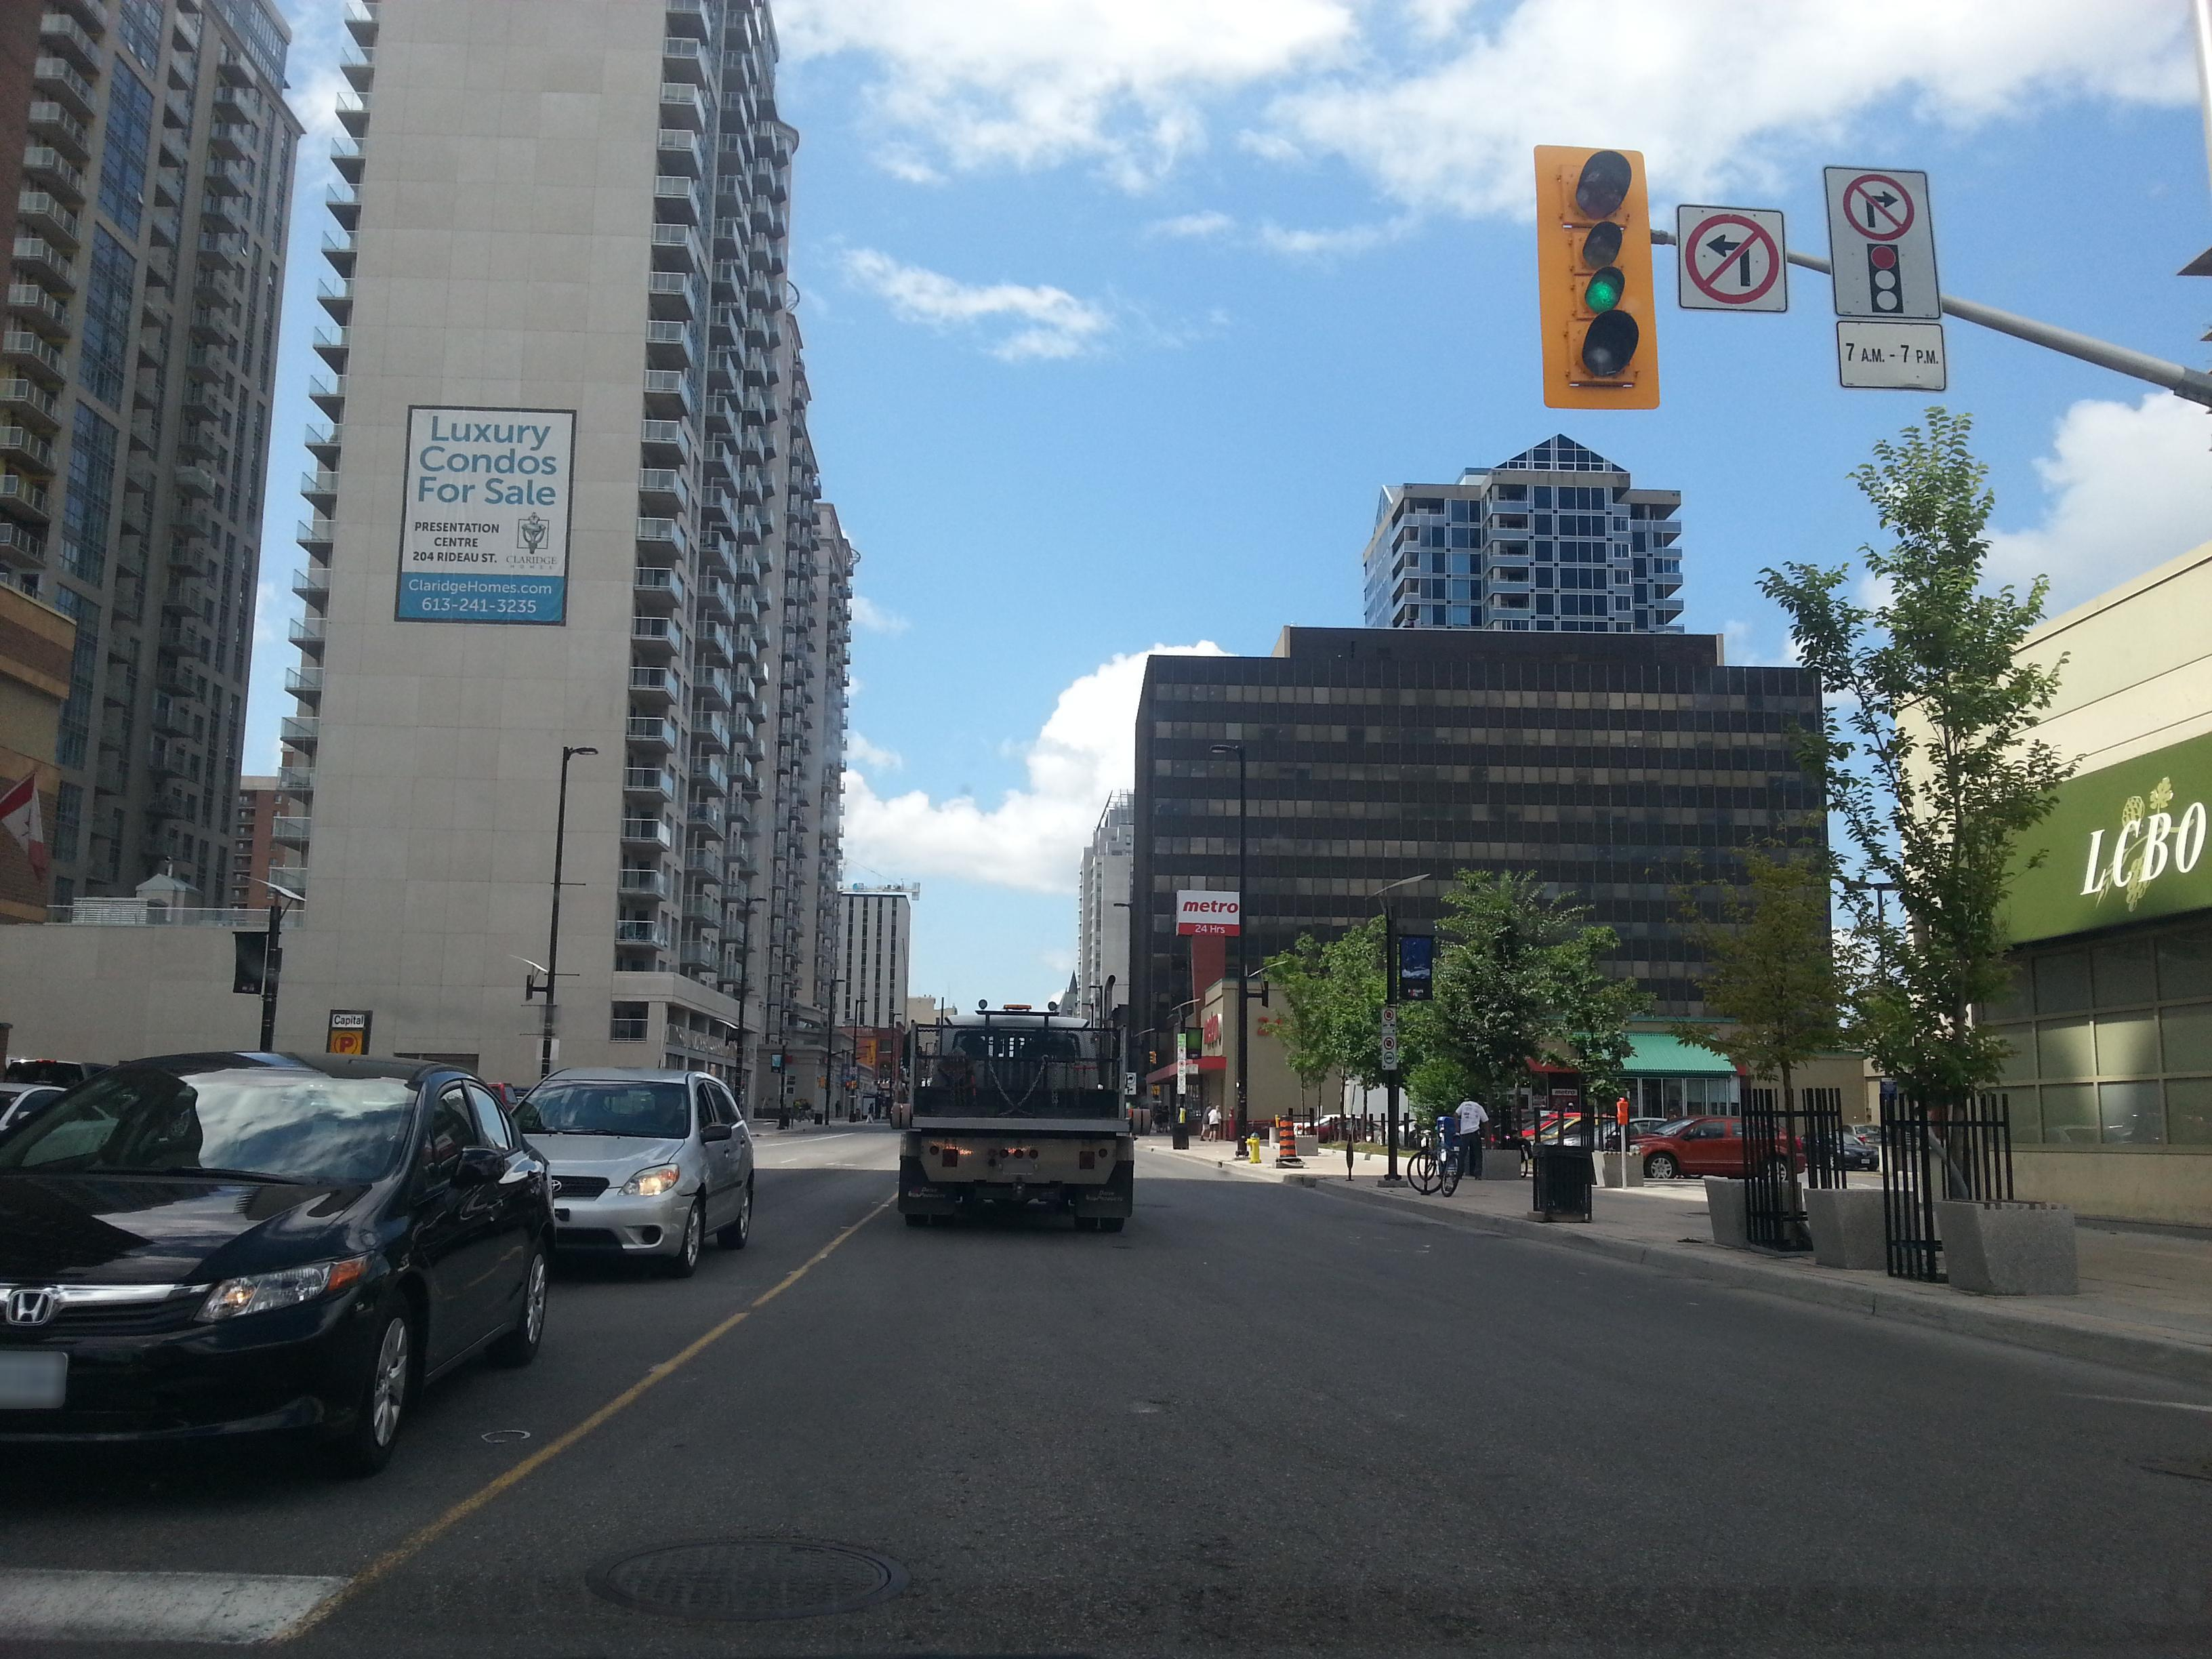vinyl banner: (388, 383, 601, 674)
